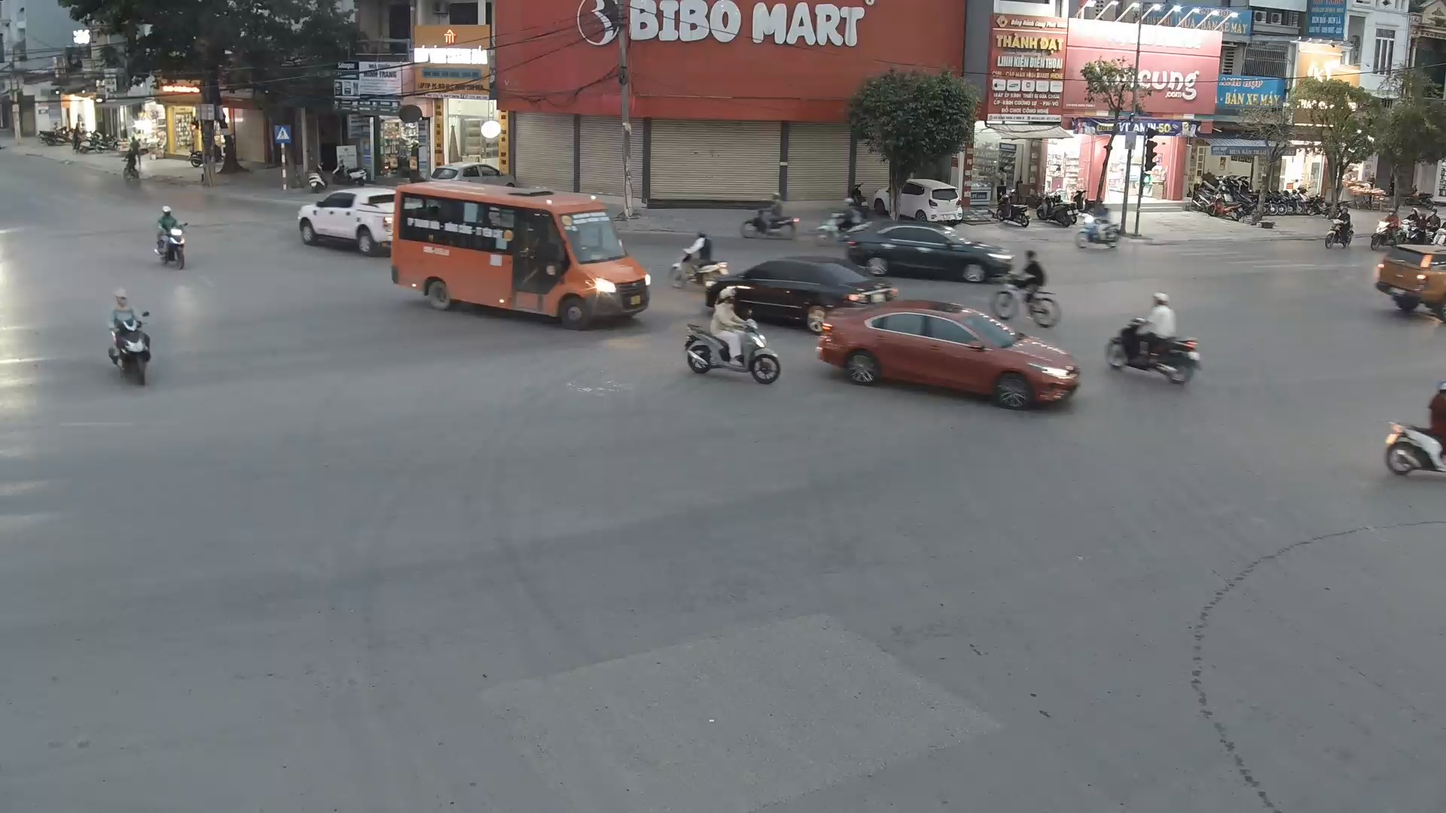car: (390, 184, 652, 330), (816, 303, 1082, 410), (711, 254, 884, 332), (837, 220, 1019, 287), (297, 184, 397, 256)
motorbike: (1101, 290, 1204, 389), (682, 289, 783, 383), (1380, 376, 1445, 485), (104, 287, 155, 387), (669, 231, 734, 297), (152, 203, 189, 271)
